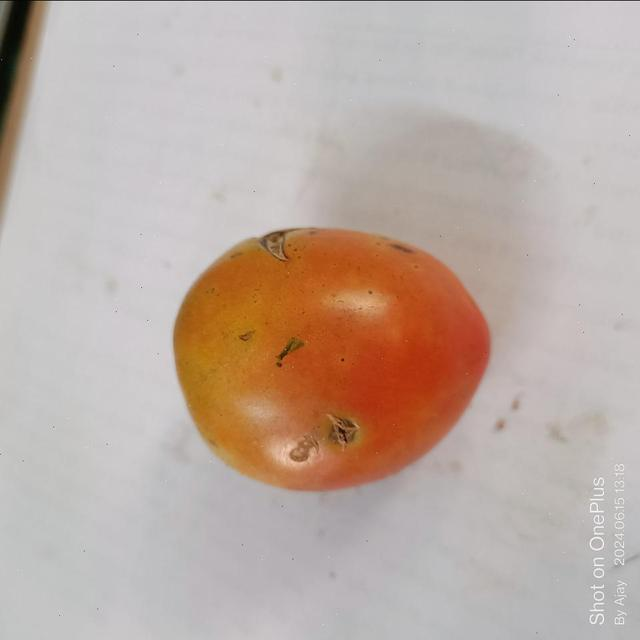Bacterial Spot Fruit: (20, 22, 227, 286)
